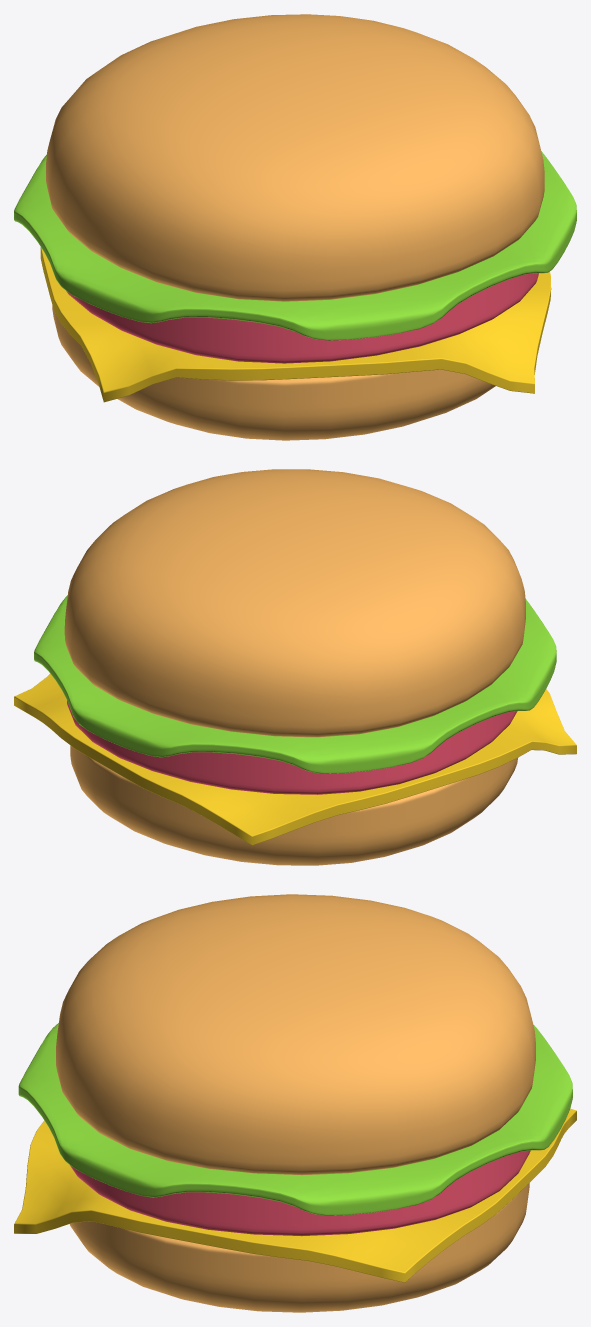
The model's file is hamburger.fbx.
3 views of the same model, one above another, from view 1: azimuth 30°, elevation 25°; view 2: azimuth 150°, elevation 25°; view 3: azimuth 270°, elevation 25° (orthographic). The views are drawn at different scales.
Parts seen in each view (by area): view 1: Cube, Plane, Cube.001; view 2: Cube, Plane, Cube.001; view 3: Cube, Plane, Cube.001.
Boxes of the visible parts, bbox=[...] form: Cube: bbox=[14, 14, 576, 340]; Plane: bbox=[40, 247, 551, 440]; Cube.001: bbox=[66, 273, 538, 363]; Cube: bbox=[34, 469, 556, 773]; Plane: bbox=[14, 674, 576, 865]; Cube.001: bbox=[67, 700, 517, 794]; Cube: bbox=[18, 894, 572, 1215]; Plane: bbox=[14, 1108, 576, 1312]; Cube.001: bbox=[70, 1150, 530, 1236].
Size of the model in its own units: 70.7 by 41.92 by 70.72.
